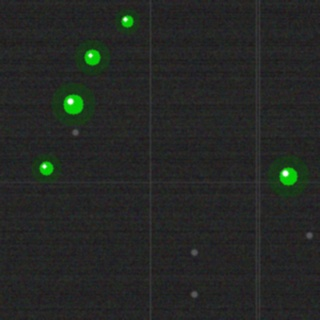green_normal: (61, 92, 85, 116), (277, 165, 299, 187), (82, 47, 102, 67), (37, 159, 55, 177), (119, 13, 135, 29)
